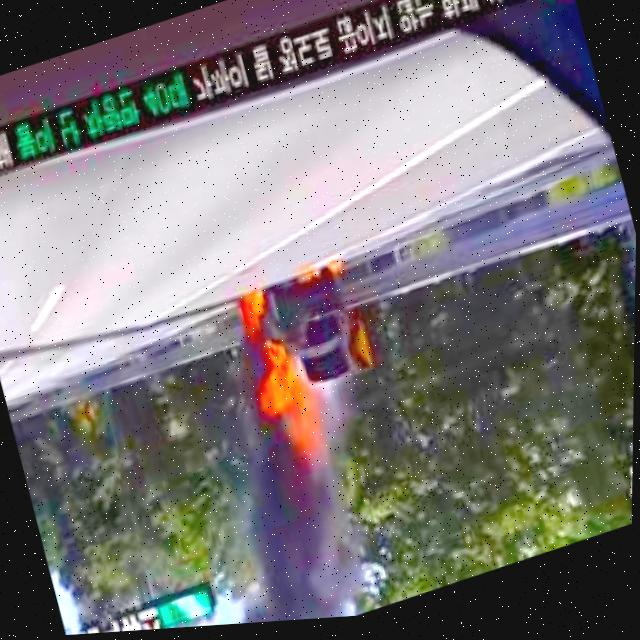Fire: (255, 346, 319, 434), (237, 292, 268, 333)
Smoke: (179, 391, 393, 630)
